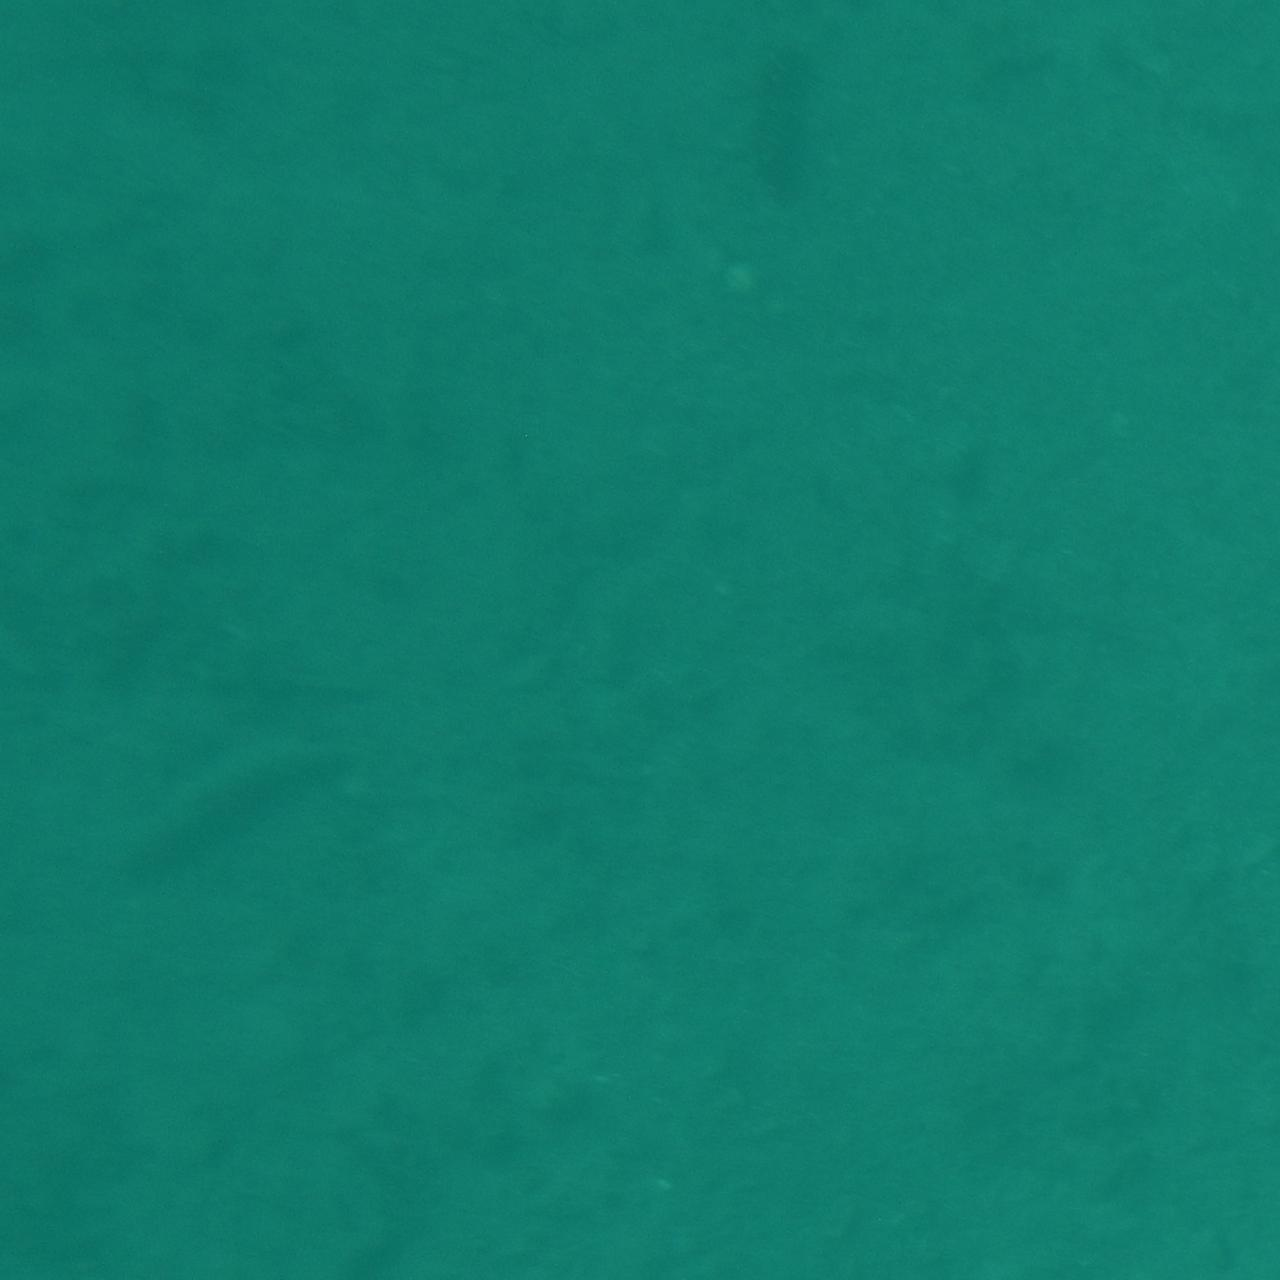Holothuria tubulosa: (91, 701, 380, 896), (720, 7, 828, 231), (947, 0, 1141, 107), (654, 1170, 819, 1280)
